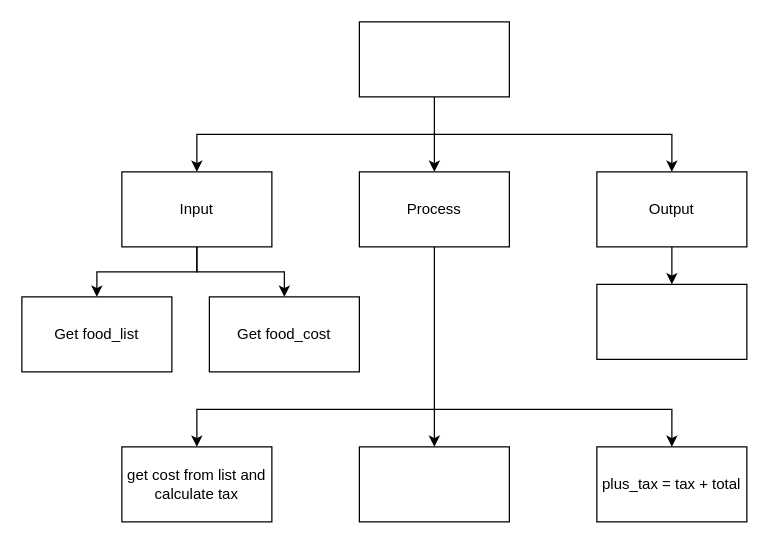
The diagram is 769 pixels wide and 544 high, and some of its shapes have lost their labels. The shapes that lost their labels are listed below. From the top down, each one's centre as x and y in pixels, then its label:
pixel 433 59: find_tax
pixel 671 321: show plus_tax
pixel 433 484: tax = total * 0.13
